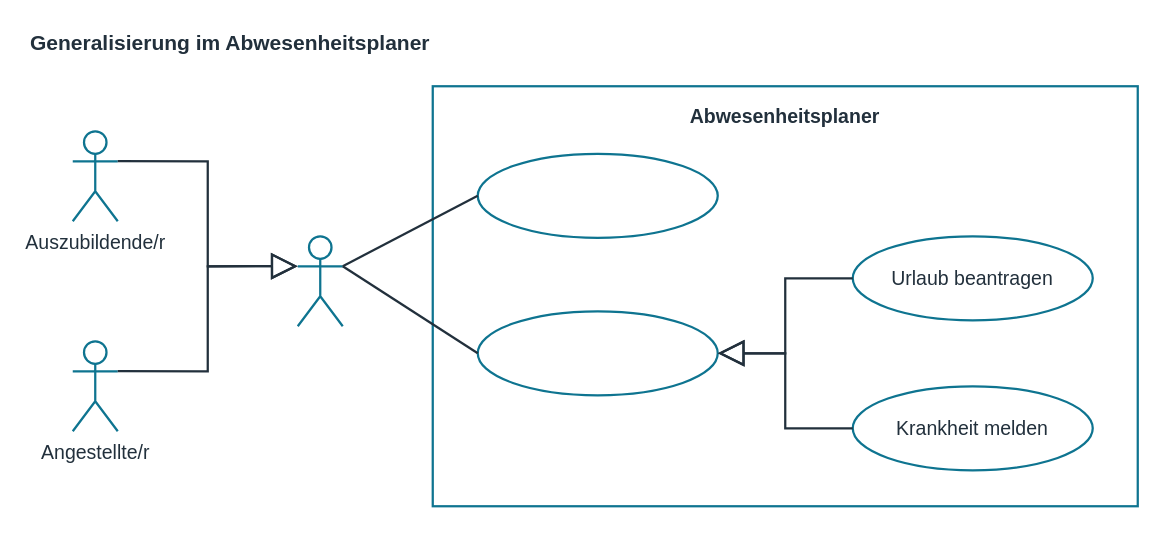
Image size: 1166x533. Some labels were removed from this diagram. The centre of each missing label's shape, as x and y in pixels:
Abwesenheit melden: [597,352]
Mitarbeiter/in: [319,280]
Resturlaub einsehen: [597,195]
